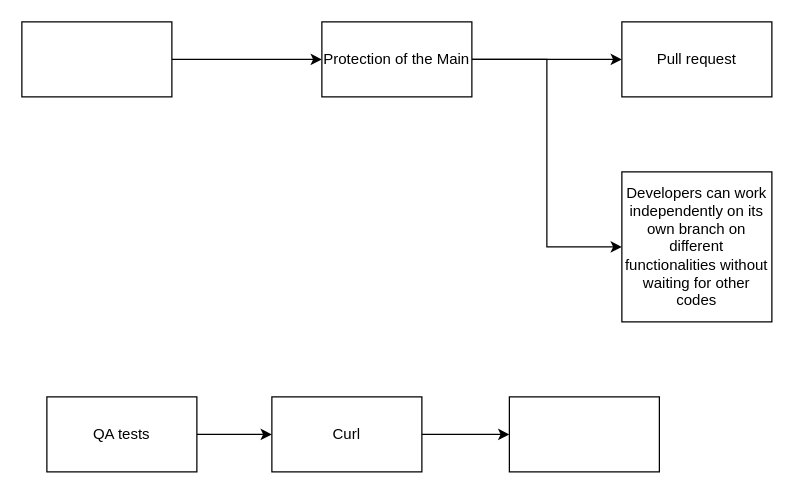
Image size: 794x494. Some labels were removed from this diagram. The centre of each missing label's shape, as x and y in pixels:
"Endpoints" belongs at point (583, 434).
"SCM (Source Control Management)" belongs at point (96, 59).
